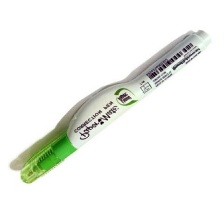correction_fluid: (16, 25, 212, 187)
